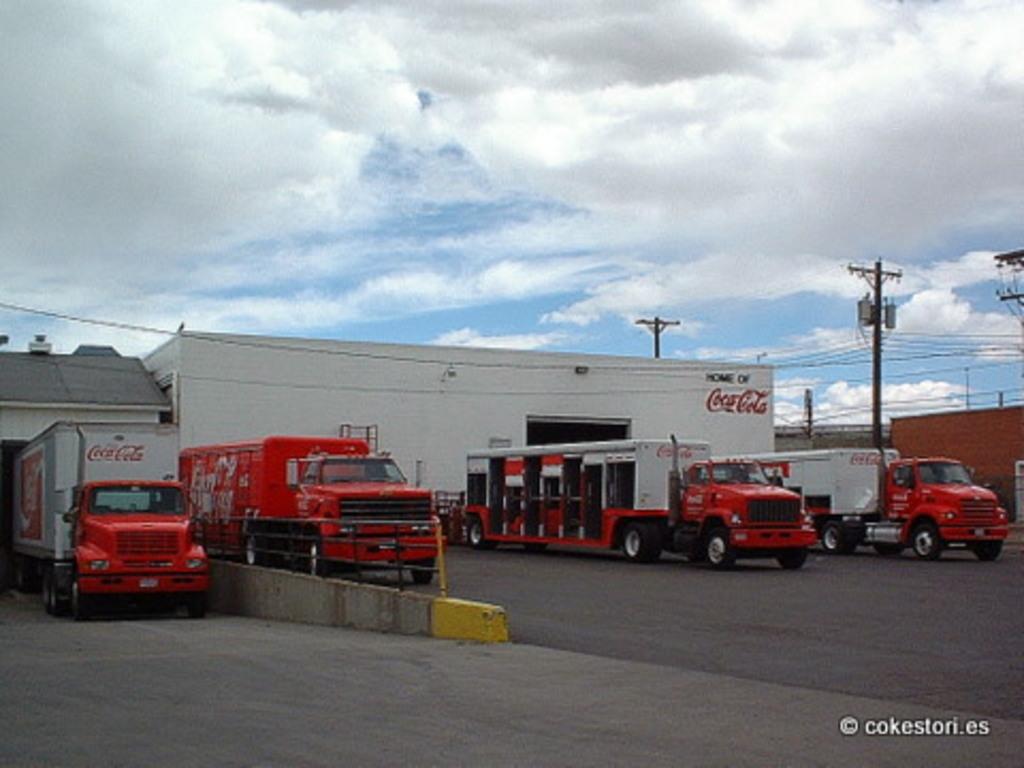truck: (4, 391, 224, 632), (442, 435, 818, 569), (182, 394, 451, 579), (758, 440, 1013, 563)
